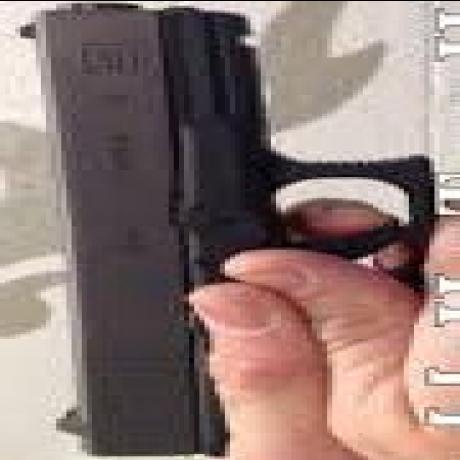1: (179, 197, 460, 460)
weapon: (9, 1, 415, 457)
